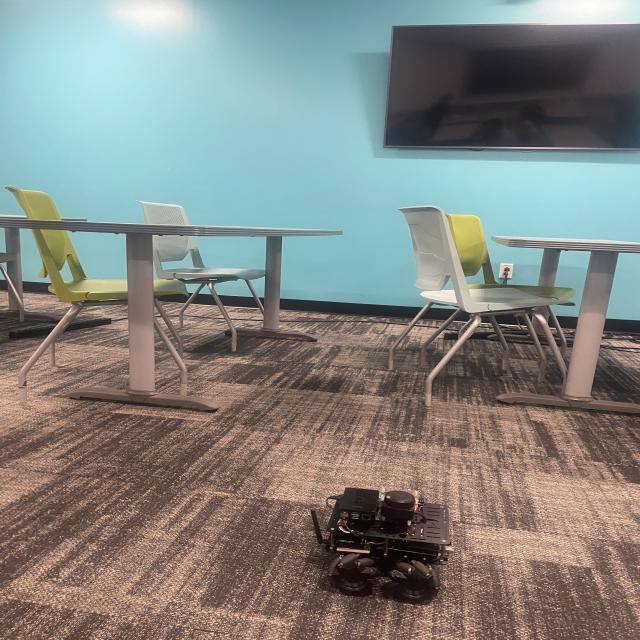ArduinoCar3: (311, 483, 458, 601)
